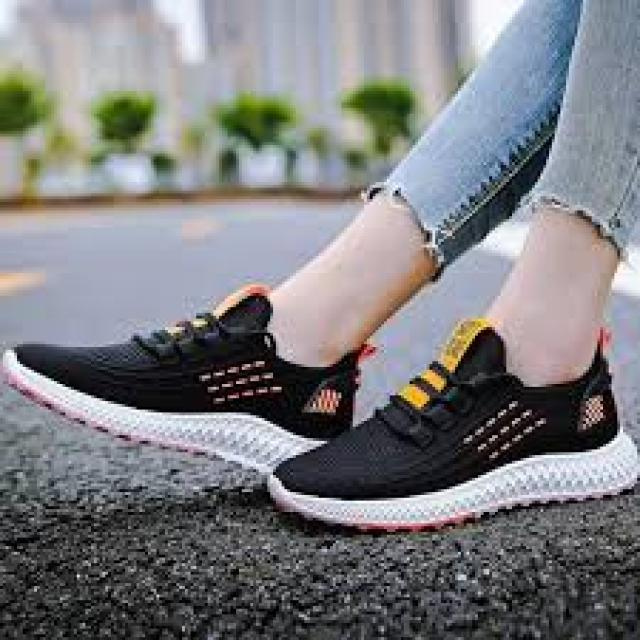shoe: (0, 278, 372, 504), (265, 307, 640, 525)
